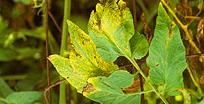Tomato Early blight leaf: (150, 4, 185, 100), (93, 0, 137, 63), (79, 73, 145, 104)
